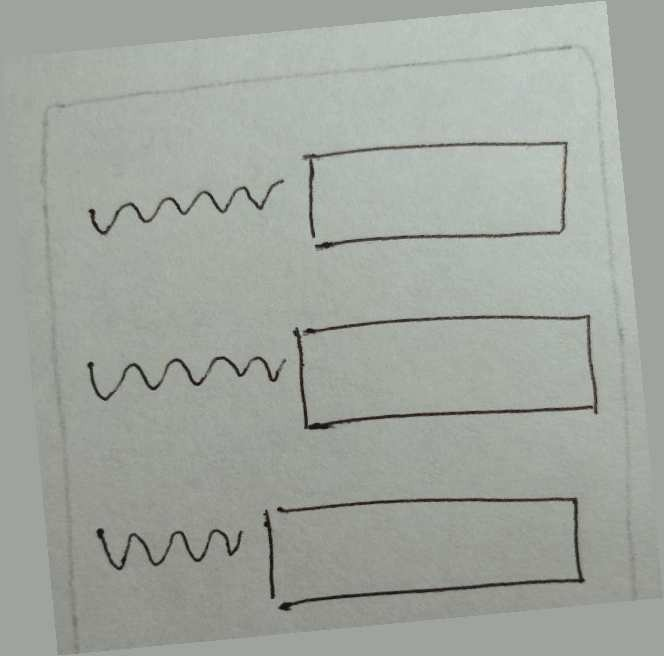text: (74, 329, 293, 416), (73, 161, 290, 236), (88, 505, 255, 588)
text_input: (257, 467, 596, 621), (291, 288, 607, 449), (293, 116, 587, 266)
